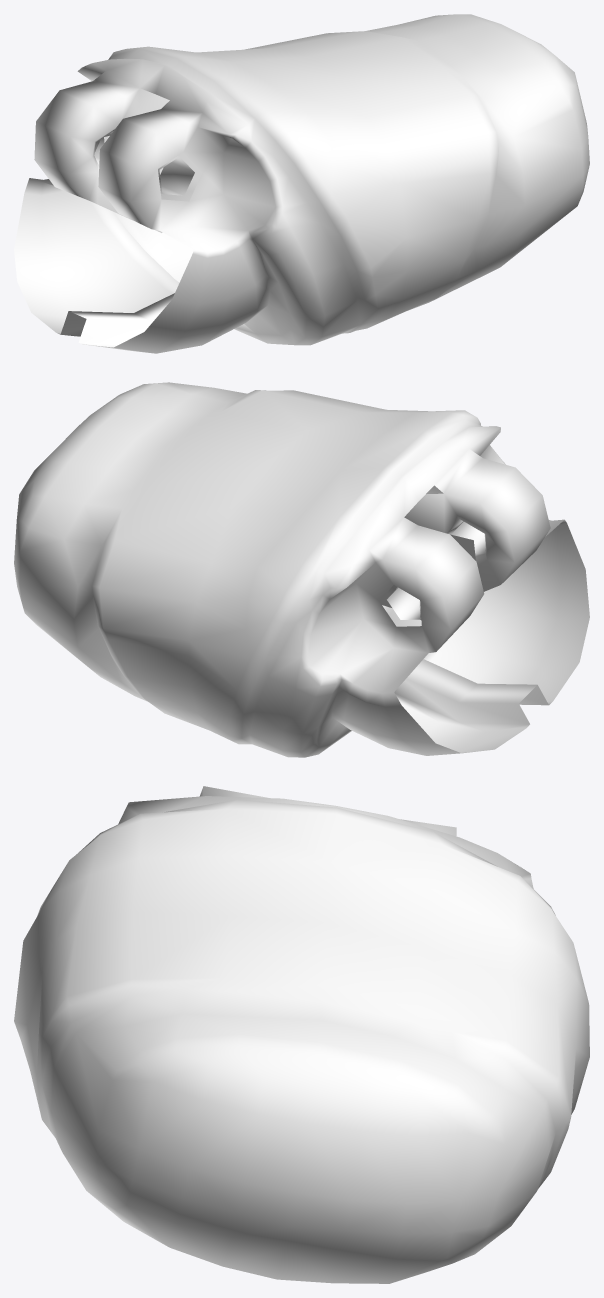
The model's file is LFinger23.dae.
The picture shows the model from 3 angles, top to bottom: view 1: azimuth 30°, elevation 25°; view 2: azimuth 150°, elevation 25°; view 3: azimuth 270°, elevation 25°; orthographic projection. The views are drawn at different scales.
Parts seen in each view (by area): view 1: LFinger23; view 2: LFinger23; view 3: LFinger23.
Part boxes in pixels (x1=…): LFinger23: x1=14, y1=14, x2=589, y2=353; LFinger23: x1=14, y1=382, x2=589, y2=757; LFinger23: x1=14, y1=786, x2=589, y2=1283.
Bounding box in the file's own units: 0.204 × 0.1614 × 0.1121.
Materials: 1 (1 with a texture image).
